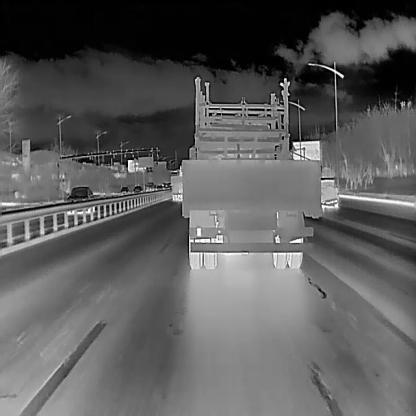car: (316, 175, 339, 209), (66, 185, 95, 209), (133, 184, 143, 195), (119, 184, 128, 196), (146, 180, 154, 192), (156, 184, 162, 192)
truck: (180, 111, 320, 268), (169, 162, 184, 202)
